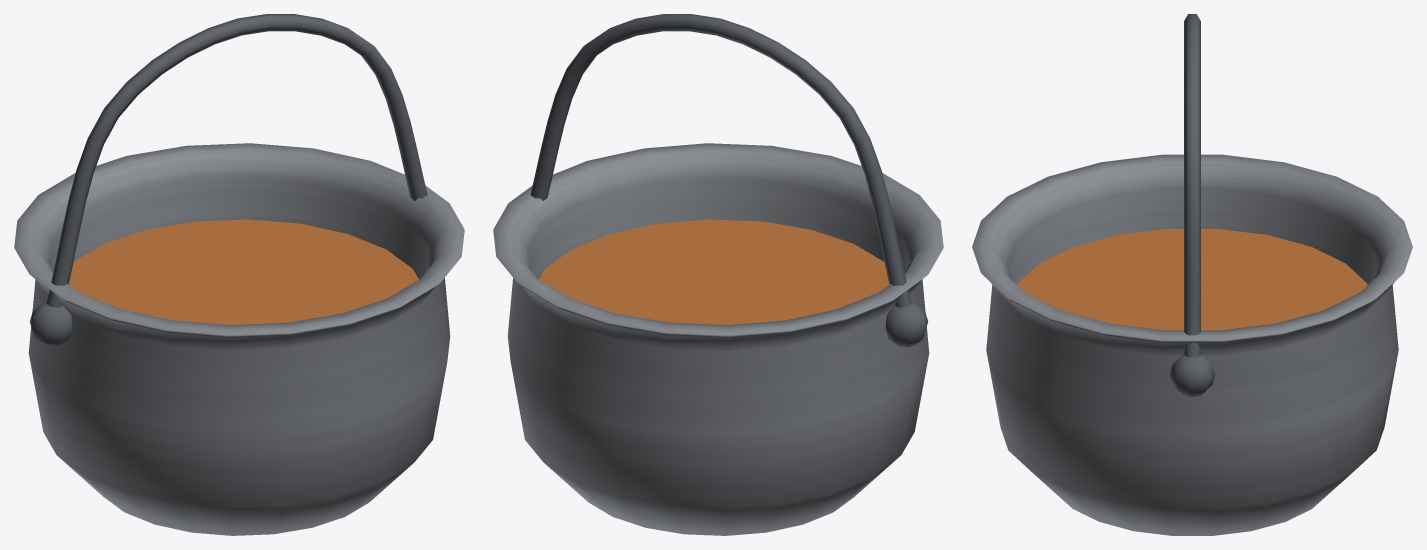
File: cooking_pot.glb
3 views of the same model, side by side, from view 1: azimuth 30°, elevation 25°; view 2: azimuth 150°, elevation 25°; view 3: azimuth 270°, elevation 25° (orthographic). The views are drawn at different scales.
Parts seen in each view (by area): view 1: cooking_pot; view 2: cooking_pot; view 3: cooking_pot.
Boxes of the visible parts, x1,y1,x2,y2 form: cooking_pot: (14,14,464,535); cooking_pot: (493,14,943,535); cooking_pot: (972,14,1412,535).
Bounding box in the file's own units: 0.328 × 0.3452 × 0.31.
Materials: 3 (2 with a texture image).
